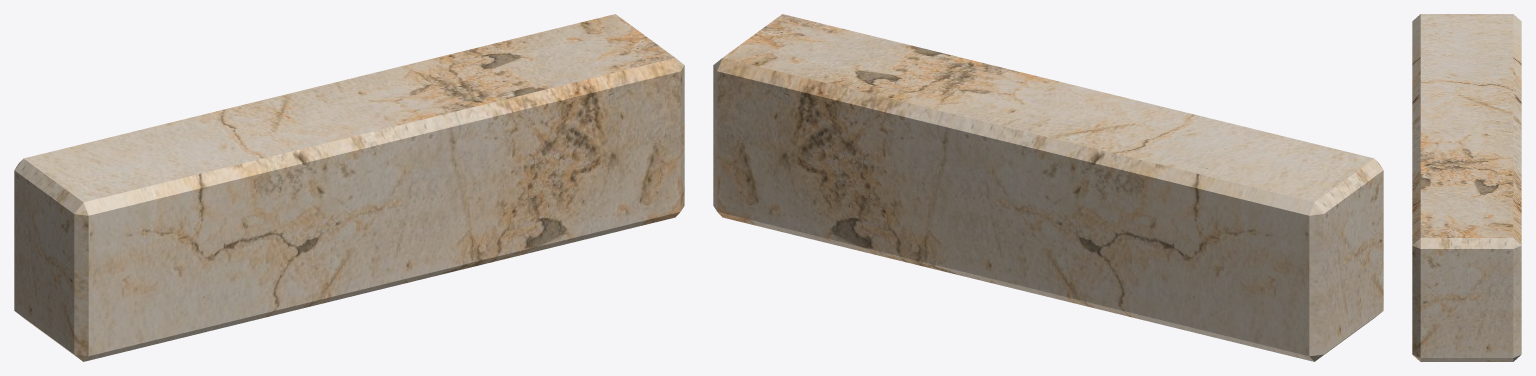
The model's file is curb_1m.glb.
The picture shows the model from 3 angles, left to right: view 1: azimuth 30°, elevation 25°; view 2: azimuth 150°, elevation 25°; view 3: azimuth 270°, elevation 25°; orthographic projection. The views are drawn at different scales.
Parts seen in each view (by area): view 1: curb_1m__VVK_concrete_CC0; view 2: curb_1m__VVK_concrete_CC0; view 3: curb_1m__VVK_concrete_CC0.
Boxes of the visible parts, x1,y1,x2,y2 form: curb_1m__VVK_concrete_CC0: [14, 14, 684, 361]; curb_1m__VVK_concrete_CC0: [713, 14, 1383, 361]; curb_1m__VVK_concrete_CC0: [1412, 14, 1521, 361].
Size of the model in its own units: 1 by 0.25 by 0.2.
Materials: 1 (1 with a texture image).
